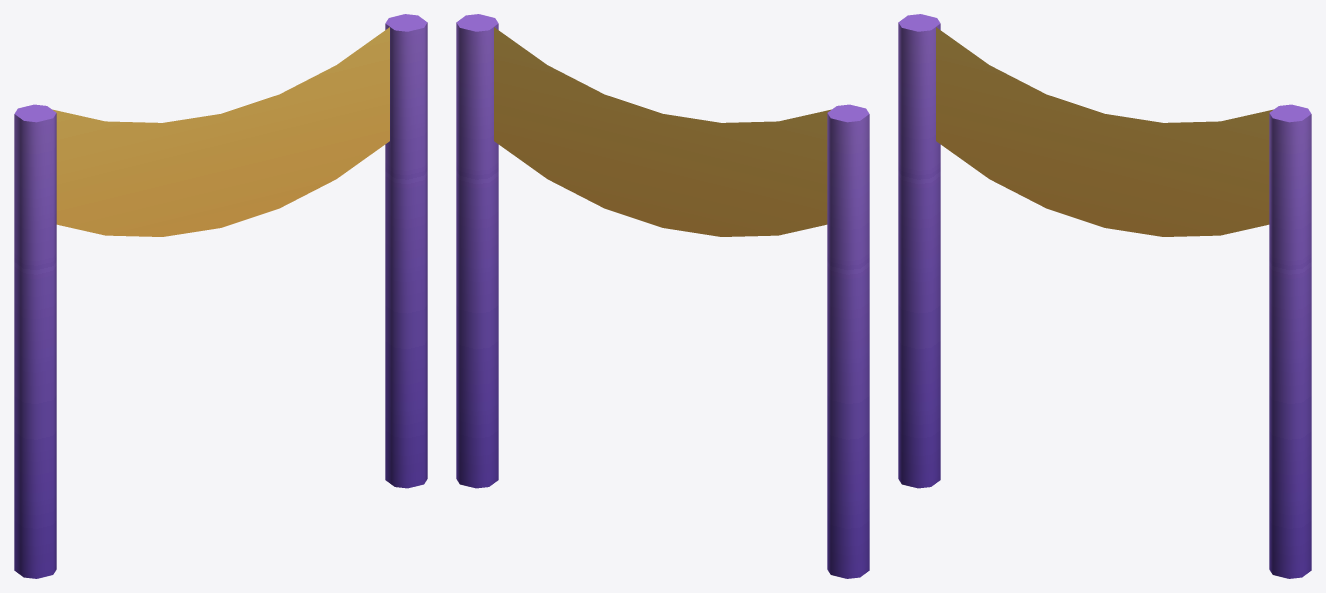
File: banner-hanging-high.glb
The picture shows the model from 3 angles, left to right: view 1: azimuth 30°, elevation 25°; view 2: azimuth 150°, elevation 25°; view 3: azimuth 330°, elevation 25°; orthographic projection.
Visible parts, largest first — view 1: banner-hanging-high; view 2: banner-hanging-high; view 3: banner-hanging-high.
Part boxes in pixels (<box>): banner-hanging-high: <box>14,14,427,578</box>; banner-hanging-high: <box>456,14,869,578</box>; banner-hanging-high: <box>898,14,1311,578</box>.
Size of the model in its own units: 0.925 by 1 by 0.075.
1 material, 1 textured.
